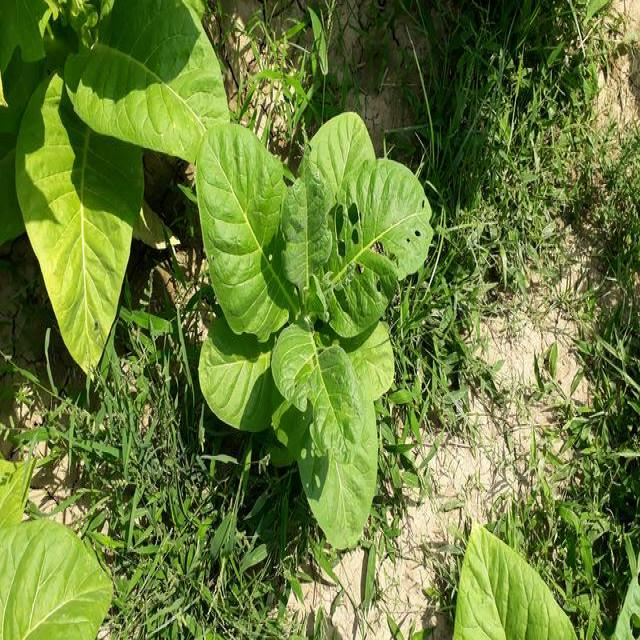crop: (189, 111, 431, 539), (0, 4, 226, 367), (0, 457, 103, 640), (450, 528, 570, 640)
